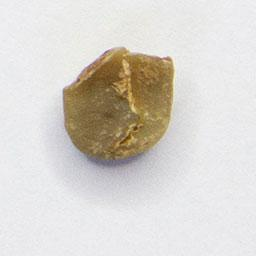defect: (59, 43, 177, 163)
